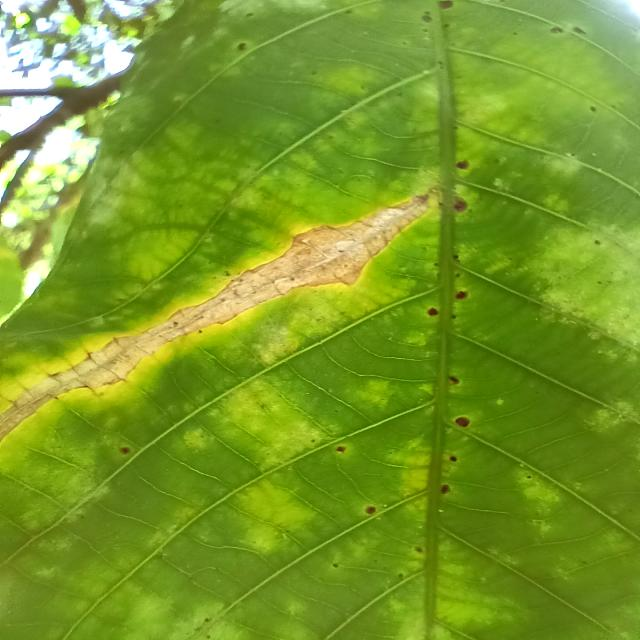Colletotrichum: (453, 195, 467, 212), (454, 415, 470, 428), (456, 159, 470, 170), (440, 483, 452, 495), (454, 291, 468, 299), (439, 0, 453, 8), (427, 308, 440, 316), (365, 506, 377, 514), (120, 446, 132, 454), (448, 376, 459, 384), (336, 445, 346, 453), (449, 455, 458, 462), (590, 106, 597, 112)
Leaf-Blight: (0, 194, 433, 438)
